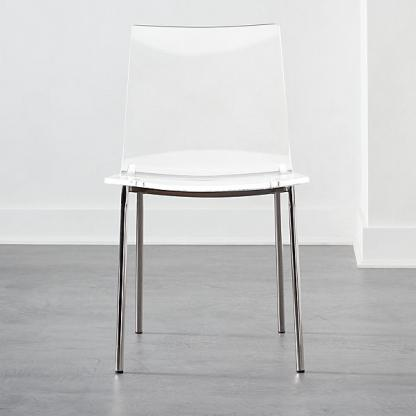chair: (103, 21, 312, 381)
